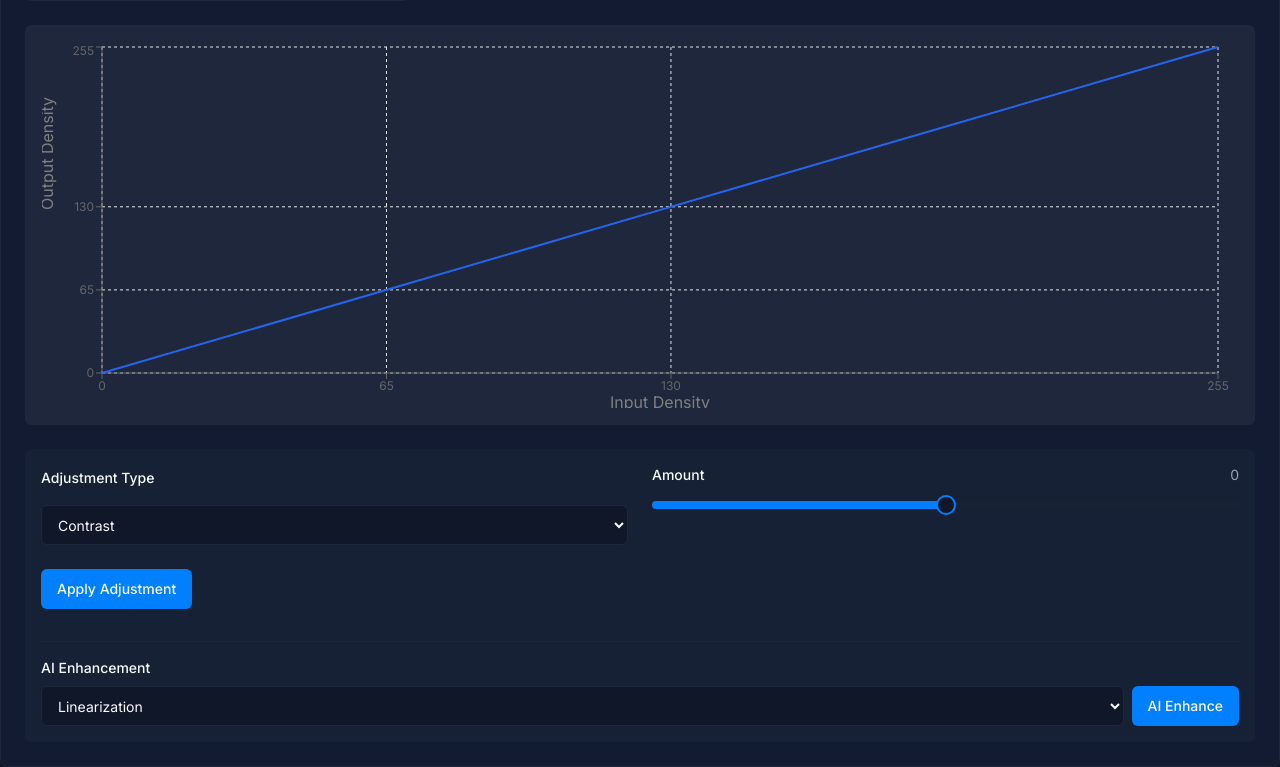
Test: CurveEditor › shows results panel with confidence and analysis on success
(page scrolled)
Click the button with test id "ai-enhance-btn" at (1185, 706), box [1132,686,1239,726]
(page scrolled)
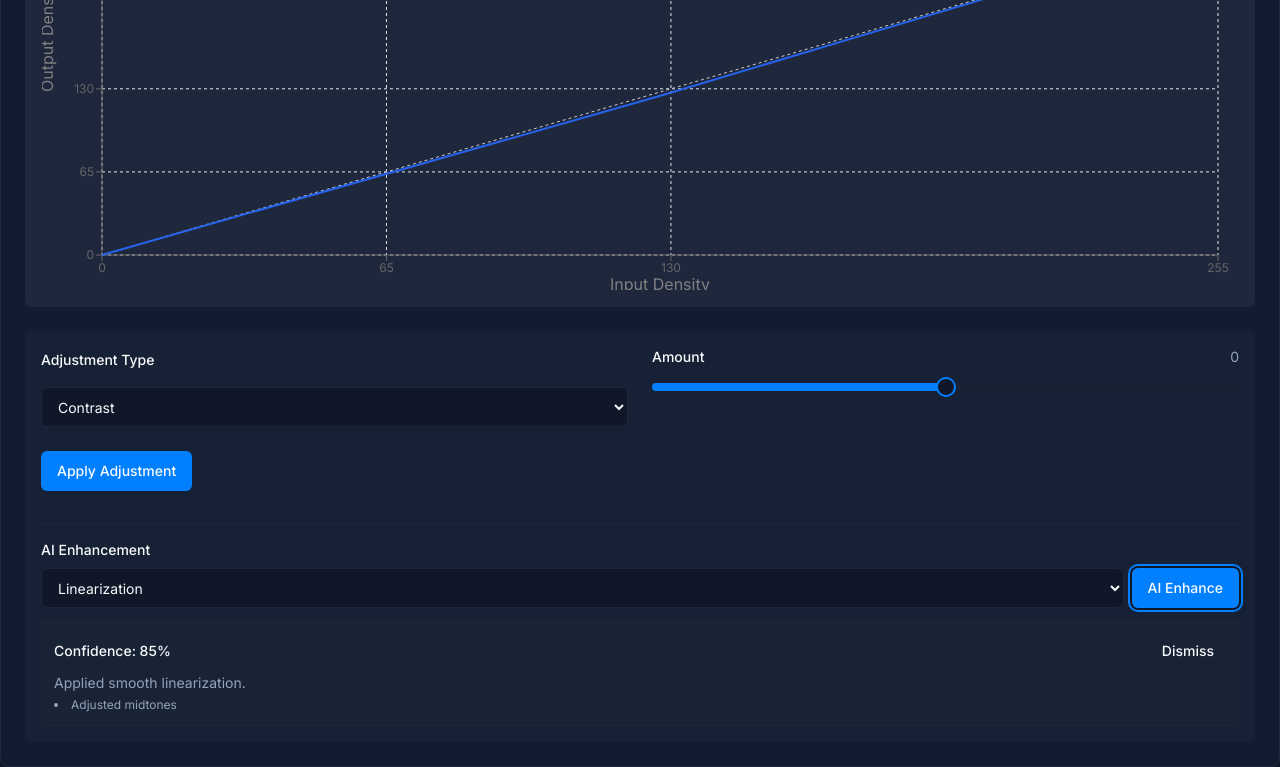
expect the message "Confidence: 85% Dismiss Applied smooth linearization. Adjusted midtones" is shown: met, box [41,620,1239,726]
expect the text "Confidence: 85%" is shown: met, box [54,641,171,661]
expect the text "Applied smooth linearization." is shown: met, box [54,674,246,691]
